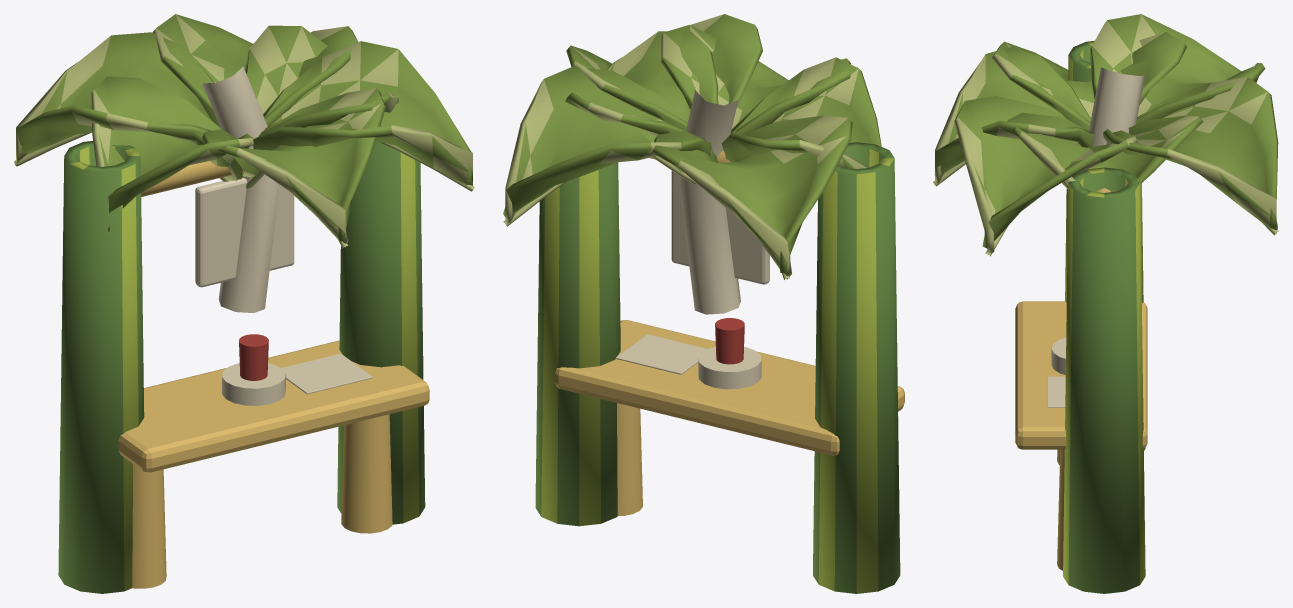
The model's file is weather_station.glb.
The picture shows the model from 3 angles, left to right: view 1: azimuth 30°, elevation 25°; view 2: azimuth 150°, elevation 25°; view 3: azimuth 270°, elevation 25°; orthographic projection. The views are drawn at different scales.
Parts seen in each view (by area): view 1: weather_station_Palette; view 2: weather_station_Palette; view 3: weather_station_Palette.
Boxes of the visible parts, <box> form: weather_station_Palette: <box>14,14,474,593</box>; weather_station_Palette: <box>503,14,904,593</box>; weather_station_Palette: <box>933,14,1278,593</box>.
Size of the model in its own units: 2.04 by 2.59 by 1.83.
